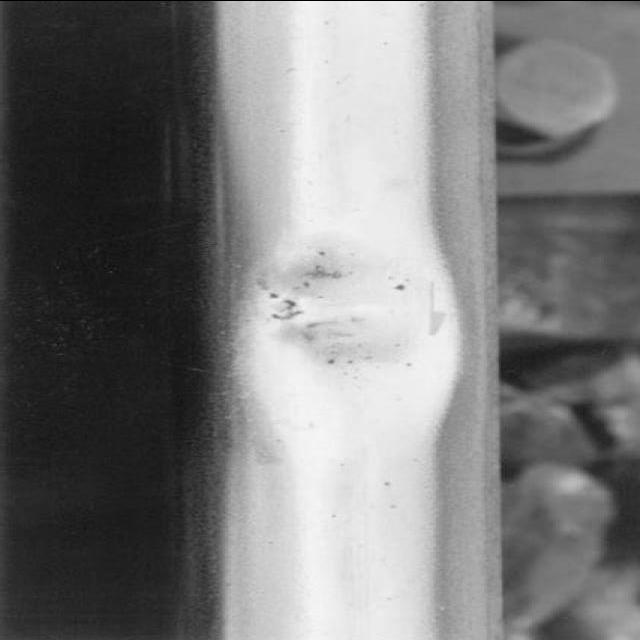head_checks_high: (216, 230, 468, 442)
